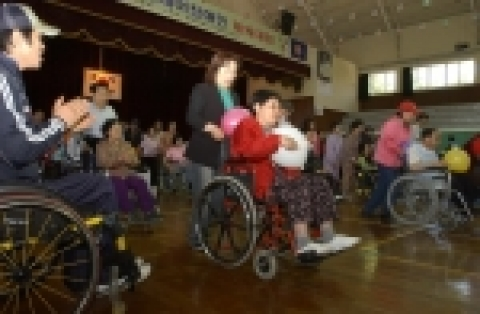wheelchair: (1, 4, 150, 314), (198, 90, 361, 280)
